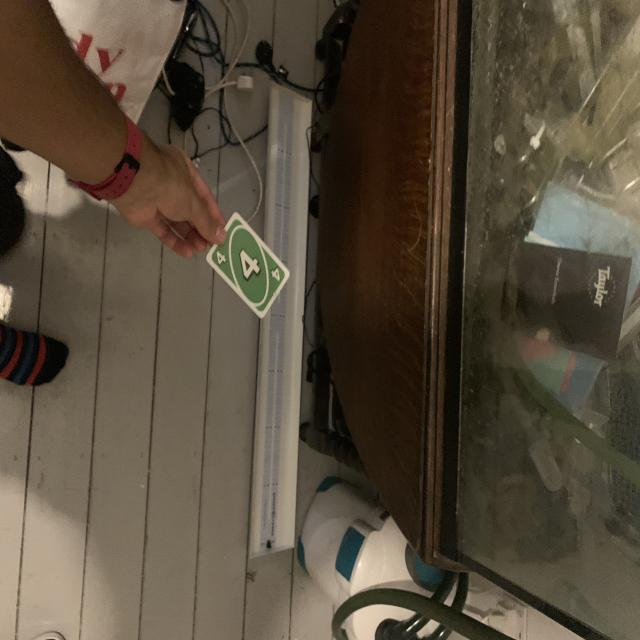lgreen-4: (213, 249, 229, 267)
